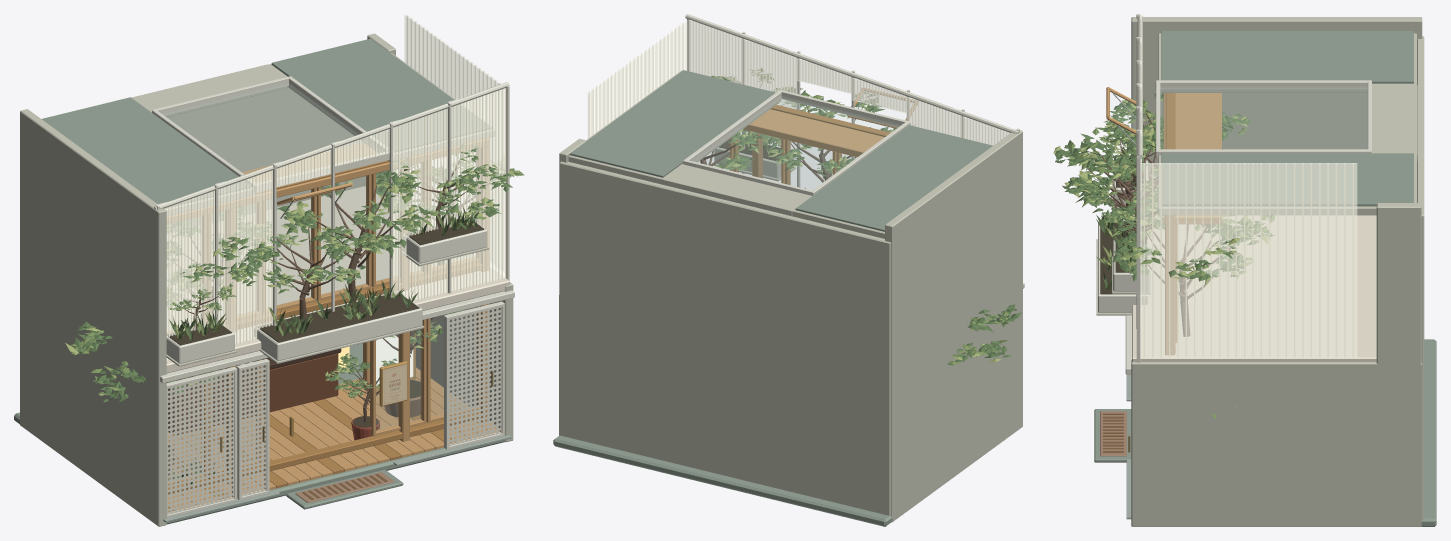
The model's file is cafe-front.glb.
3 renders of one model, left to right at view 1: azimuth 30°, elevation 25°; view 2: azimuth 150°, elevation 25°; view 3: azimuth 270°, elevation 25°, orthographic. The views are drawn at different scales.
Parts seen in each view (by area): view 1: ForestHouse_pearl, ForestHouse_snow, ForestHouse_poly, ForestHouse_grey, ForestHouse_oak, ForestHouse_polyline, ForestHouse_glass, ForestHouse_porcelain, ForestHouse_moss, ForestHouse_wood, ForestHouse_fern, ForestHouse_leaf (+8 smaller); view 2: ForestHouse_pearl, ForestHouse_grey, ForestHouse_poly, ForestHouse_glass, ForestHouse_snow, ForestHouse_polyline, ForestHouse_oak, ForestHouse_moss, ForestHouse_leaf, ForestHouse_fern, ForestHouse_wood, ForestHouse_shoot (+1 smaller); view 3: ForestHouse_pearl, ForestHouse_poly, ForestHouse_grey, ForestHouse_porcelain, ForestHouse_glass, ForestHouse_polyline, ForestHouse_snow, ForestHouse_moss, ForestHouse_oak, ForestHouse_leaf, ForestHouse_fern, ForestHouse_shoot (+6 smaller).
Part boxes in pixels (bbox=[...]): ForestHouse_pearl: bbox=[20, 33, 513, 526]; ForestHouse_snow: bbox=[152, 76, 514, 517]; ForestHouse_poly: bbox=[157, 14, 504, 360]; ForestHouse_grey: bbox=[14, 38, 504, 524]; ForestHouse_oak: bbox=[167, 138, 499, 510]; ForestHouse_polyline: bbox=[165, 15, 506, 360]; ForestHouse_glass: bbox=[163, 84, 473, 479]; ForestHouse_porcelain: bbox=[166, 186, 509, 373]; ForestHouse_moss: bbox=[72, 145, 522, 488]; ForestHouse_wood: bbox=[168, 160, 482, 512]; ForestHouse_fern: bbox=[72, 145, 507, 479]; ForestHouse_leaf: bbox=[71, 143, 524, 483]; ForestHouse_pearl: bbox=[559, 70, 1022, 522]; ForestHouse_grey: bbox=[553, 70, 992, 526]; ForestHouse_poly: bbox=[587, 20, 1016, 145]; ForestHouse_glass: bbox=[694, 97, 899, 189]; ForestHouse_snow: bbox=[683, 14, 1024, 288]; ForestHouse_polyline: bbox=[588, 20, 1009, 144]; ForestHouse_oak: bbox=[729, 88, 917, 184]; ForestHouse_moss: bbox=[700, 68, 1022, 365]; ForestHouse_leaf: bbox=[712, 73, 1009, 364]; ForestHouse_fern: bbox=[711, 69, 1016, 361]; ForestHouse_wood: bbox=[770, 104, 890, 136]; ForestHouse_shoot: bbox=[725, 72, 1007, 362]; ForestHouse_pearl: bbox=[1096, 17, 1424, 526]; ForestHouse_poly: bbox=[1140, 14, 1357, 361]; ForestHouse_grey: bbox=[1094, 31, 1436, 526]; ForestHouse_porcelain: bbox=[1132, 183, 1376, 361]; ForestHouse_glass: bbox=[1160, 88, 1367, 148]; ForestHouse_polyline: bbox=[1138, 61, 1353, 357]; ForestHouse_snow: bbox=[1098, 14, 1371, 374]; ForestHouse_moss: bbox=[1055, 93, 1271, 289]; ForestHouse_oak: bbox=[1106, 87, 1221, 354]; ForestHouse_leaf: bbox=[1055, 99, 1274, 418]; ForestHouse_fern: bbox=[1054, 93, 1274, 288]; ForestHouse_shoot: bbox=[1053, 100, 1268, 406].
Bounding box in the file's own units: 8.17 × 6.9 × 6.43.
Materials: 35 (1 with a texture image).
